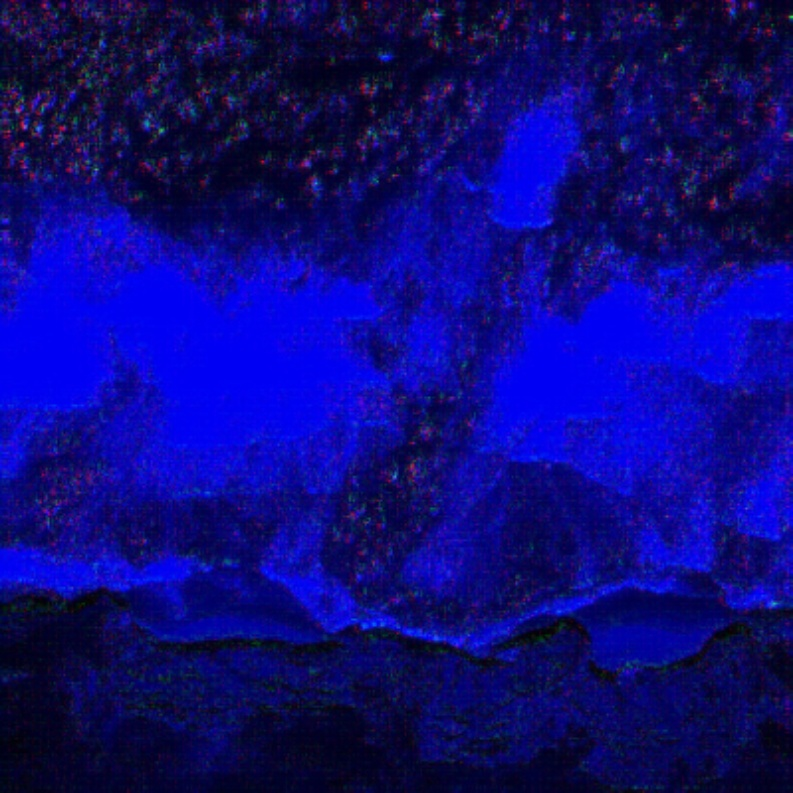rip_current: (316, 44, 575, 606)
